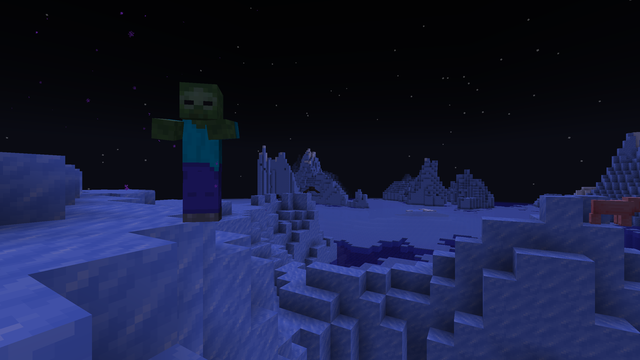araignees: (303, 185, 318, 193)
cochons: (592, 198, 634, 226)
zombies: (171, 82, 231, 225)
